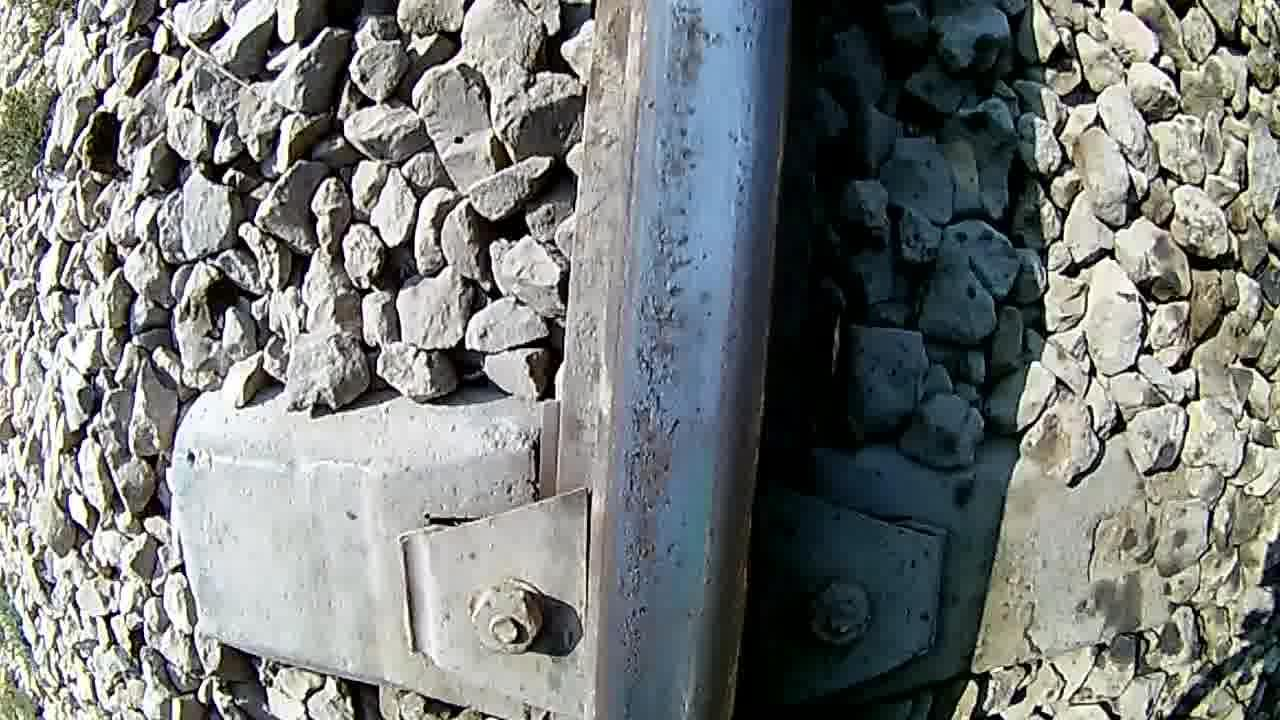crack: (593, 3, 783, 720)
